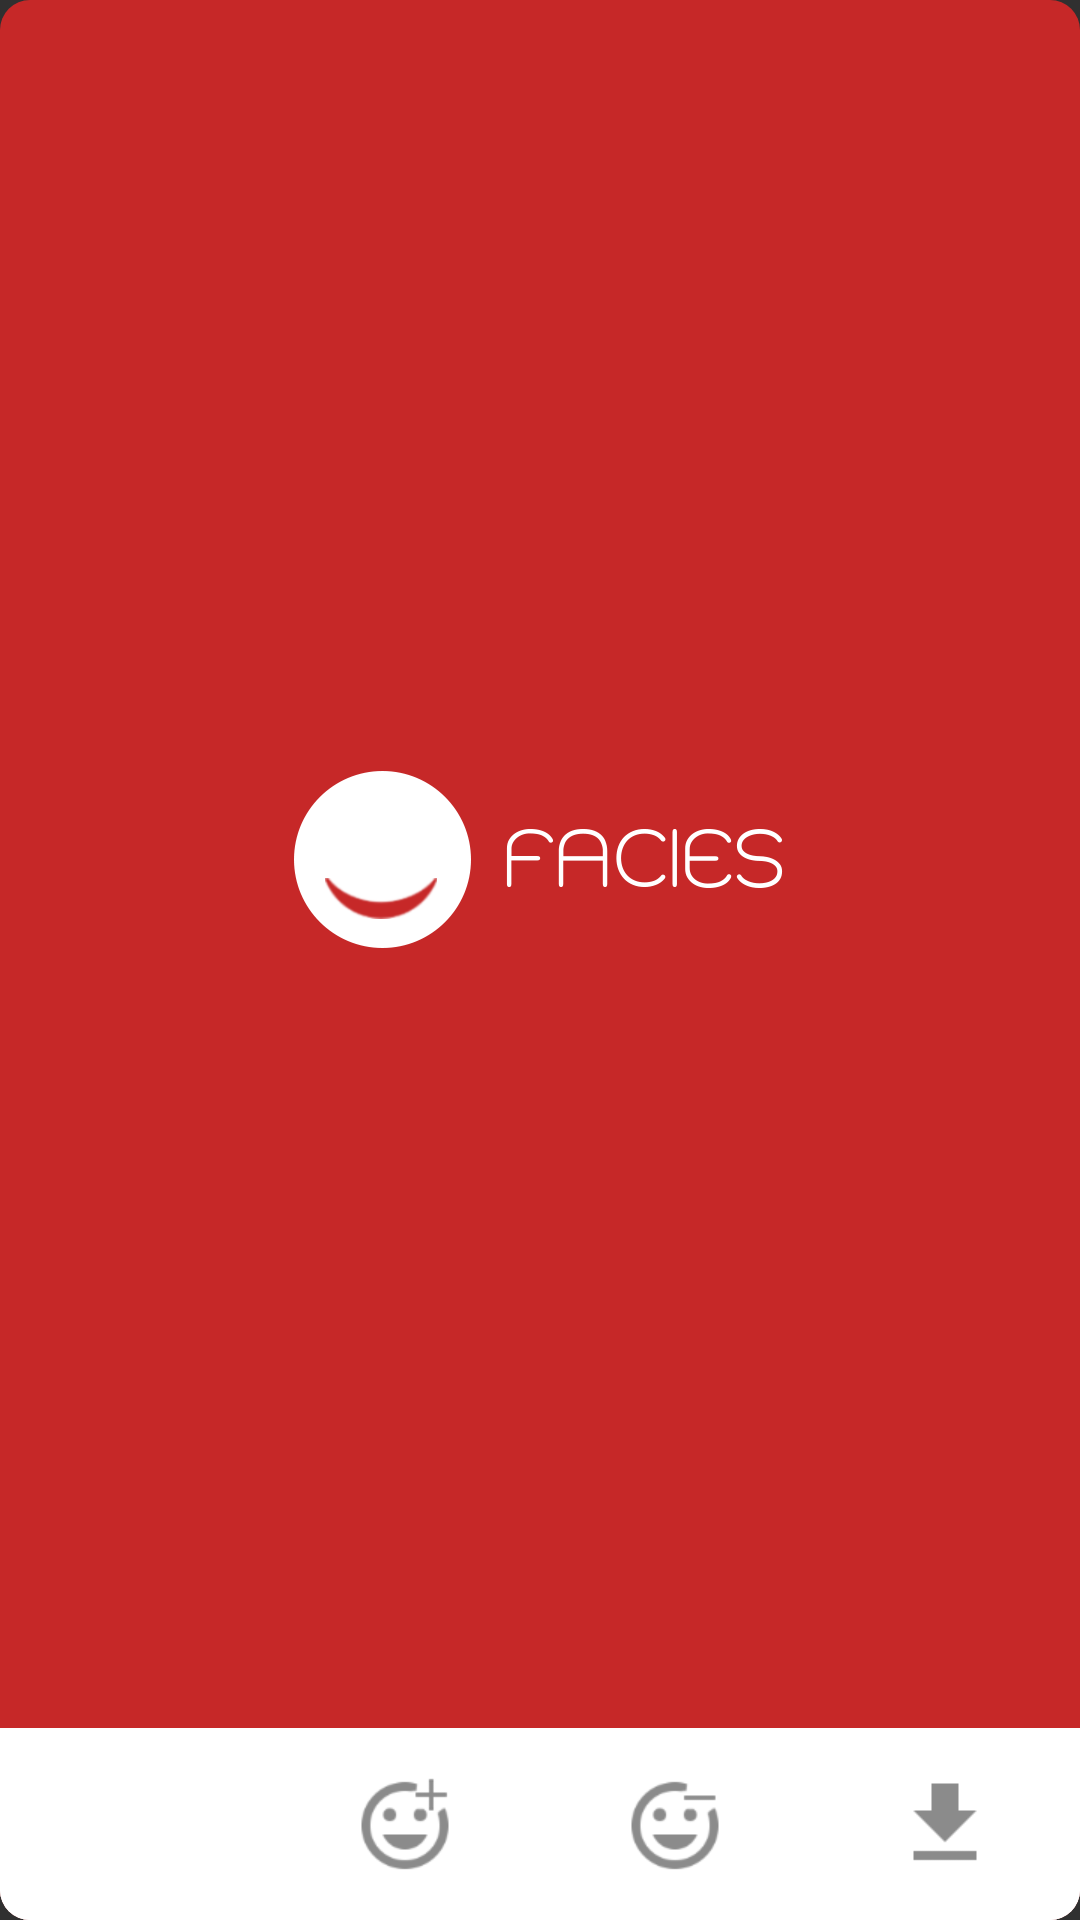

Icons on this 1080px x 1920px Android screen, each with its box as (x1, y1, x2, y2):
add face: (361, 1779, 449, 1869)
remove face: (631, 1782, 719, 1869)
